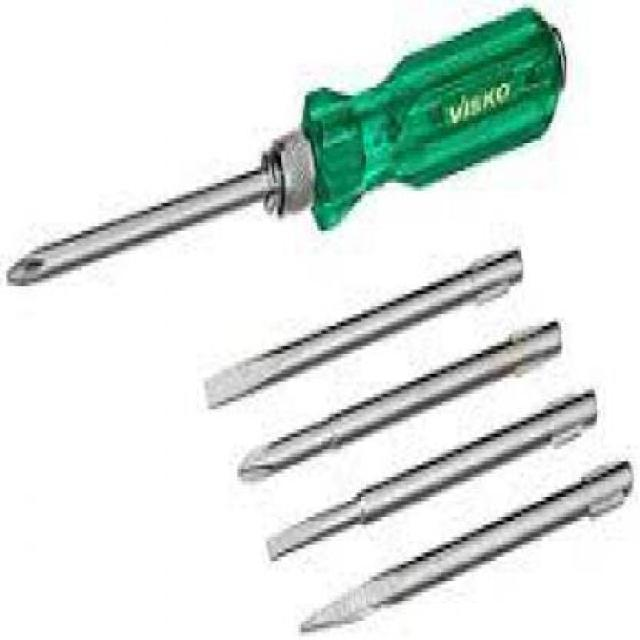screwdriver: (6, 11, 568, 287)
